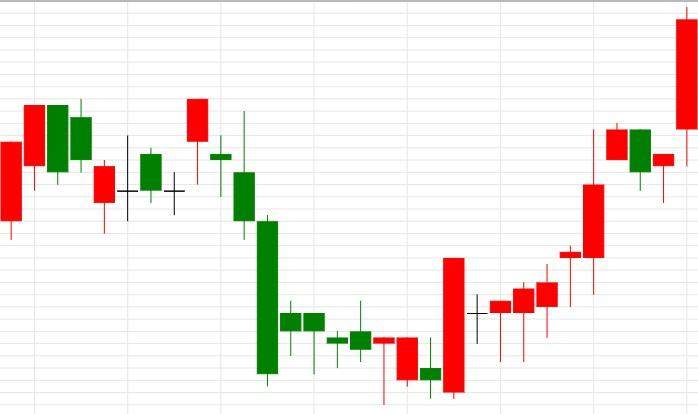bullish_engulfing_rise: (187, 98, 465, 405)
morning_star_rise: (23, 98, 163, 234)
